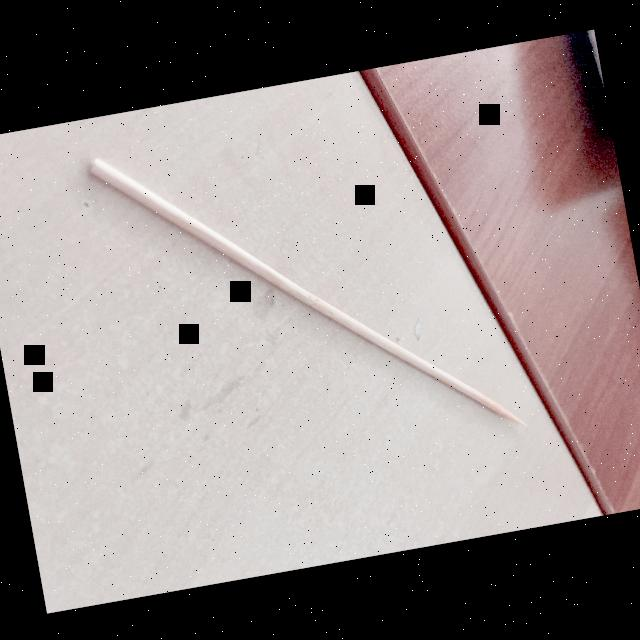stick: (76, 84, 531, 494)
